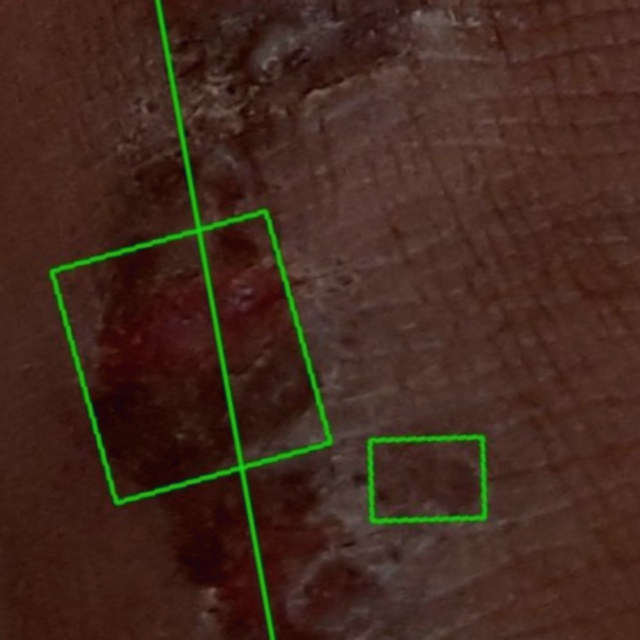Contact Dermatitis: (0, 0, 272, 639), (51, 210, 330, 501), (369, 436, 485, 520)
